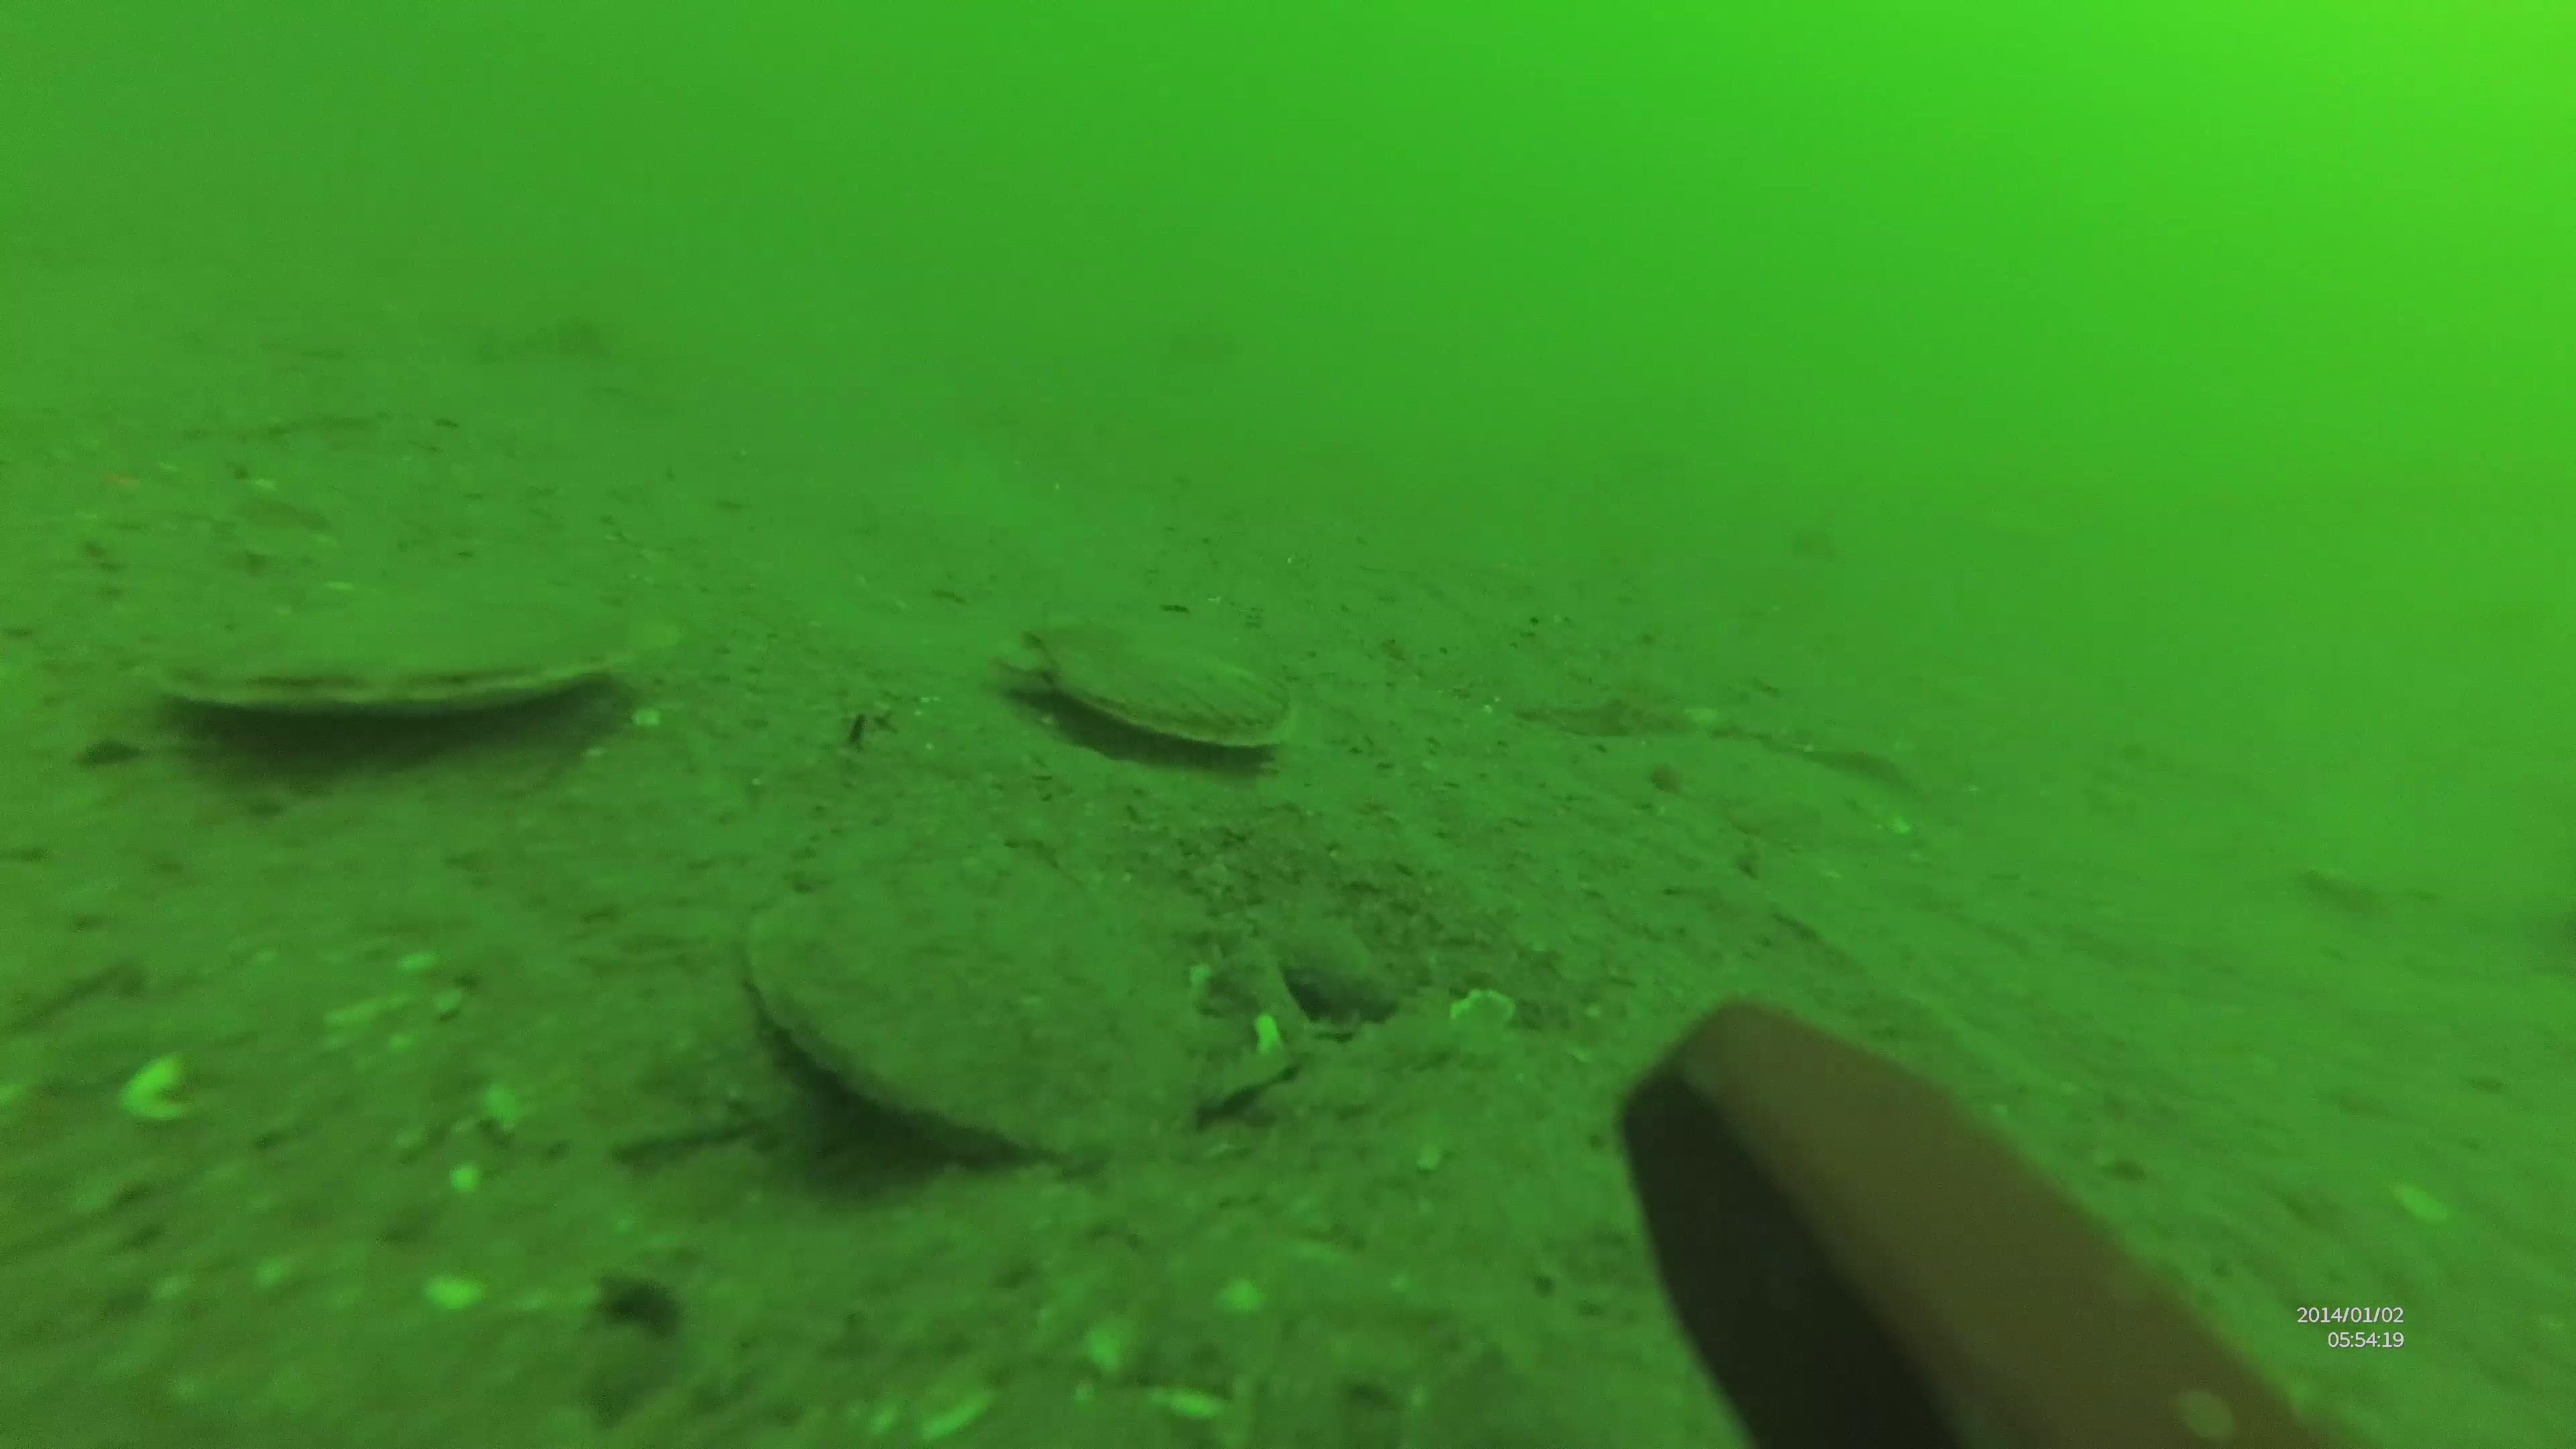scallop: (711, 812, 1311, 1150), (150, 593, 655, 718), (978, 596, 1306, 741)
